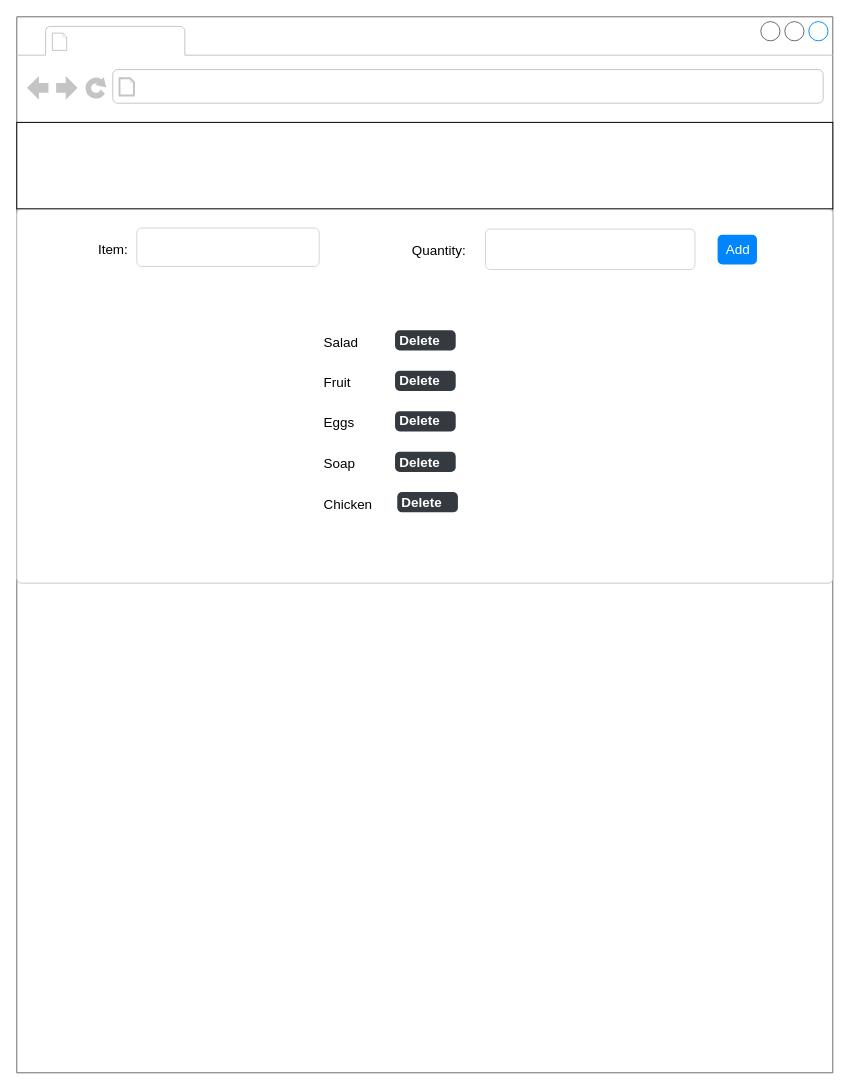
Image size: 850x1090. Some labels were removed from this diagram. The shapes that lost their labels are listed below. From the top down, each one's centre as x and y in pixels, then its label:
At (x=126, y=40): "Page 1".
At (x=261, y=86): "https://www.draw.io".
At (x=424, y=165): "Shopping List".
